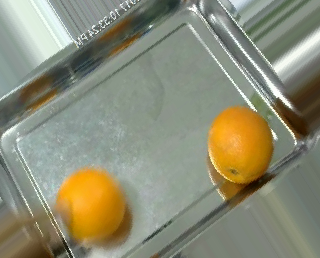Orange: (56, 168, 130, 244), (208, 106, 274, 183)
